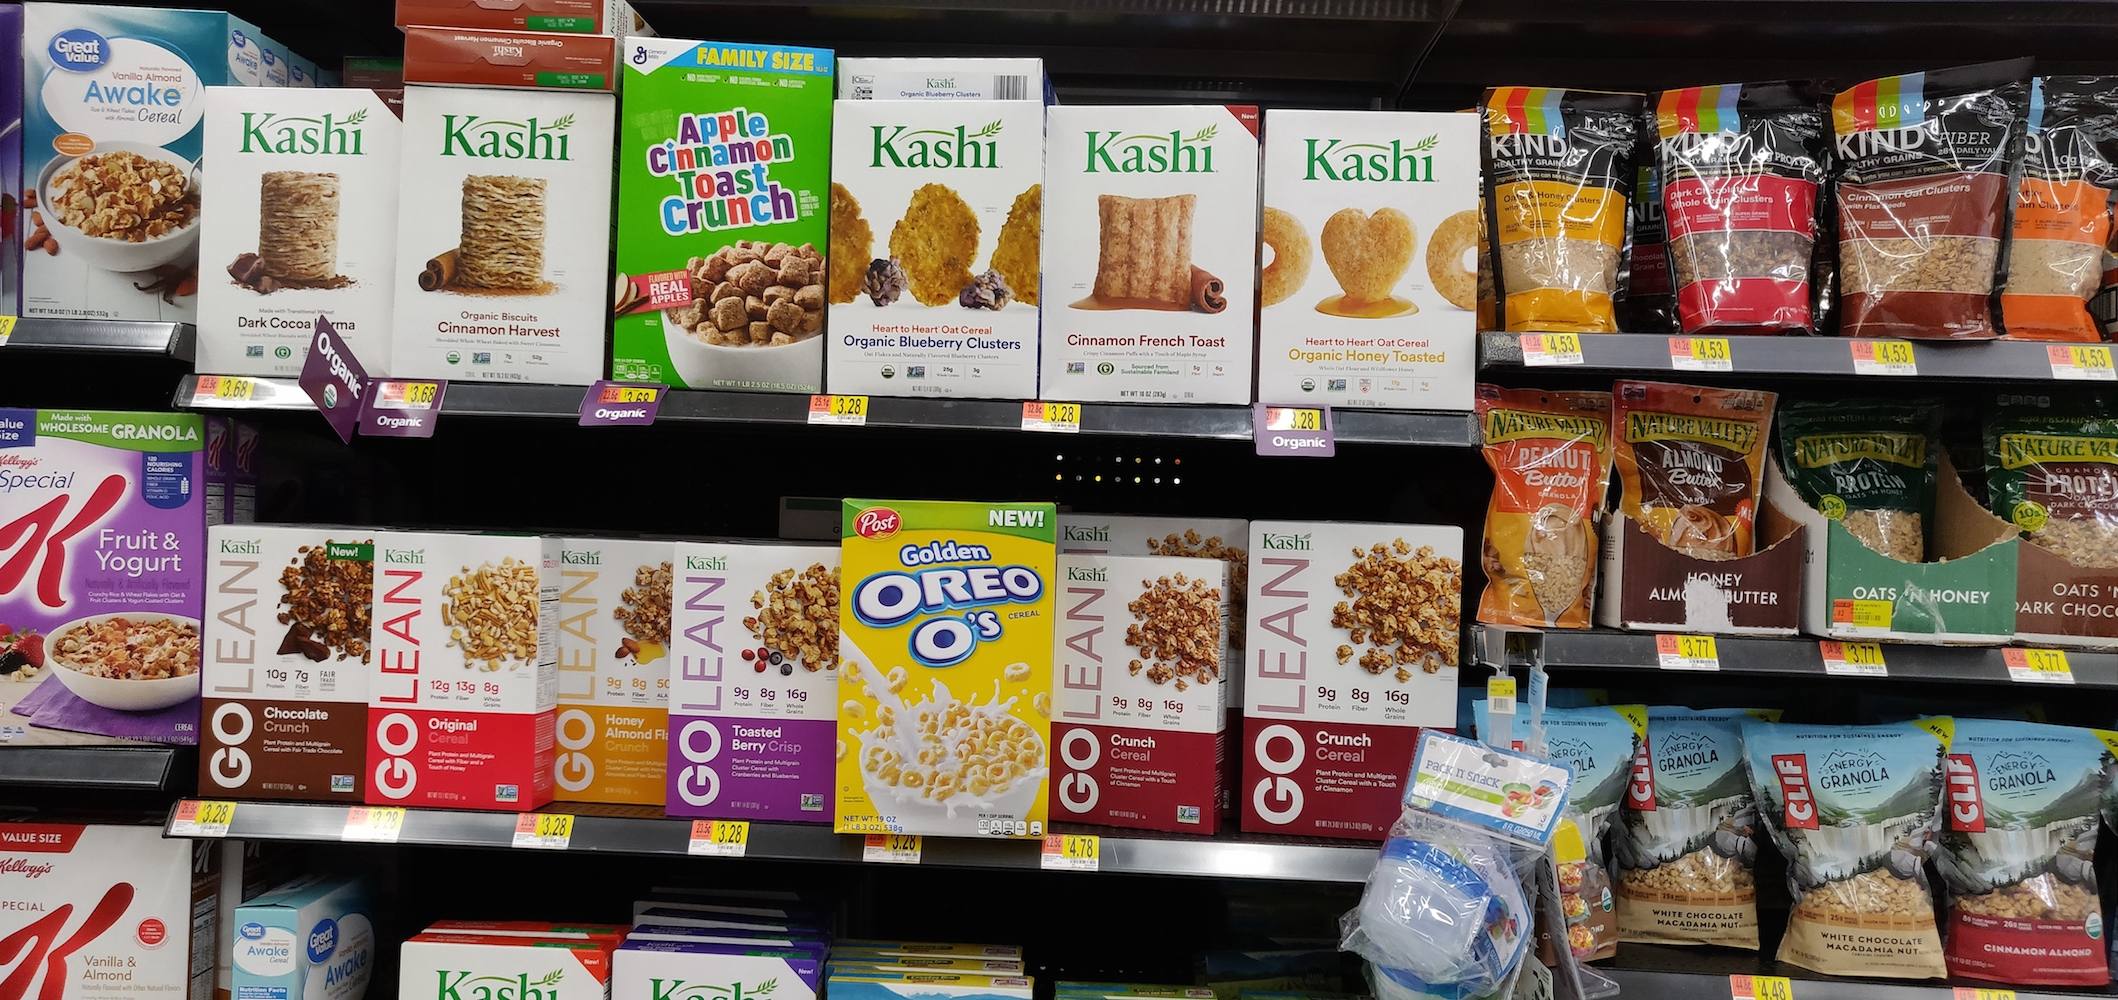Oreo Golden-568301011: (848, 501, 1064, 828)
